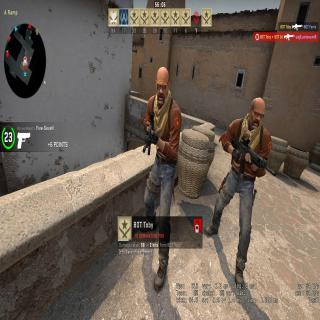T-Body: (205, 97, 271, 286), (140, 65, 180, 295)
T-Head: (154, 66, 170, 106), (244, 98, 264, 128)
